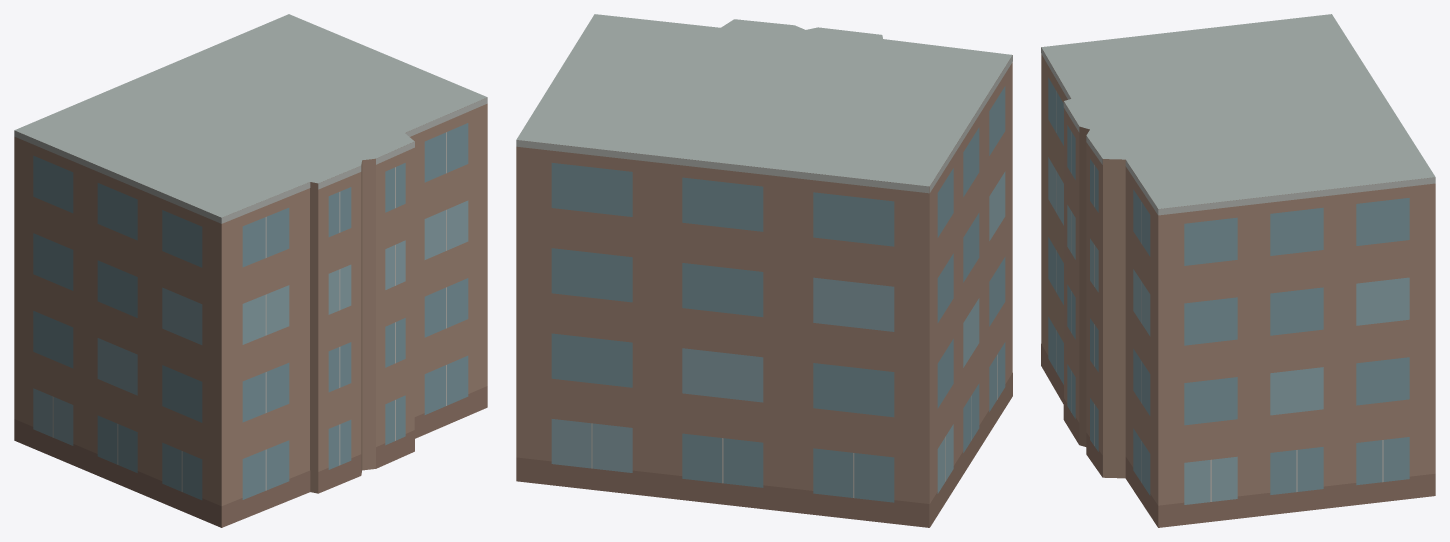
Rendered from survey-upis-32612059.glb.
The picture shows the model from 3 angles, left to right: view 1: azimuth 30°, elevation 25°; view 2: azimuth 150°, elevation 25°; view 3: azimuth 270°, elevation 25°; orthographic projection. The views are drawn at different scales.
Parts seen in each view (by area): view 1: survey-upis-32612059.tmp; view 2: survey-upis-32612059.tmp; view 3: survey-upis-32612059.tmp.
Part boxes in pixels (box(x1,y1,x2,y2)): survey-upis-32612059.tmp: box(14, 14, 487, 527); survey-upis-32612059.tmp: box(516, 14, 1012, 527); survey-upis-32612059.tmp: box(1041, 14, 1435, 527).
Bounding box in the file's own units: 16.02 × 12.2 × 13.69.
